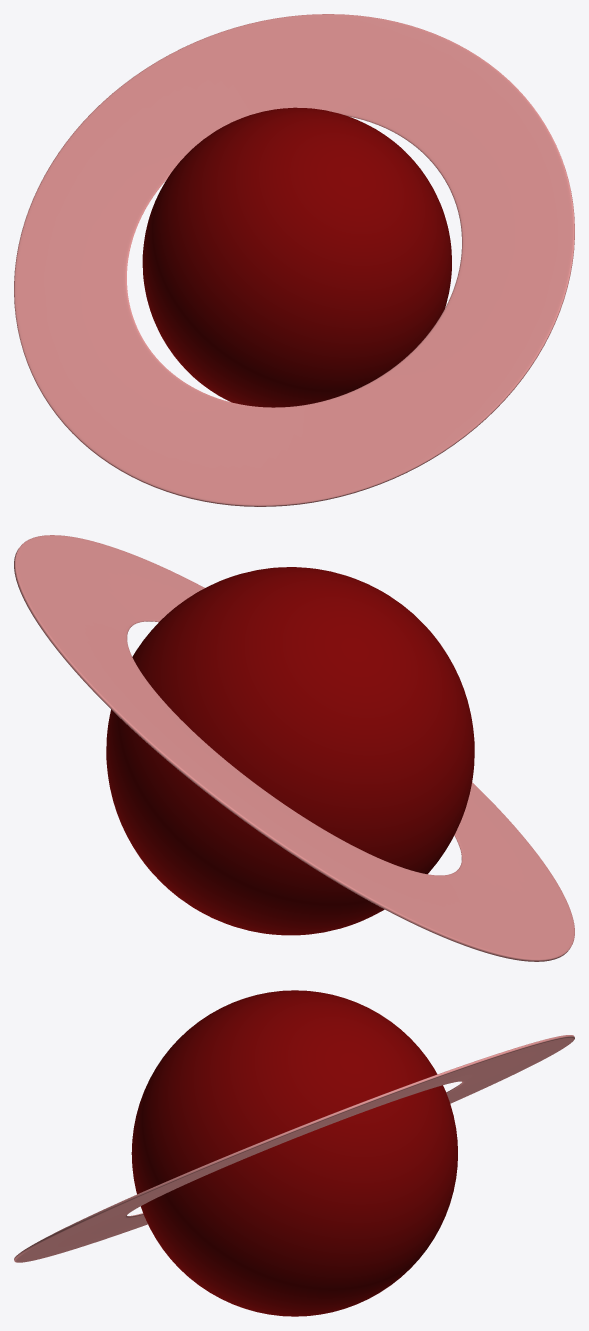
Rendered from saturn.glb.
The picture shows the model from 3 angles, top to bottom: view 1: azimuth 30°, elevation 25°; view 2: azimuth 150°, elevation 25°; view 3: azimuth 270°, elevation 25°; orthographic projection. The views are drawn at different scales.
Visible parts, largest first — view 1: Ring, _switchable; view 2: _switchable, Ring; view 3: _switchable, Ring.
Boxes of the visible parts, left/top/right/bottom form: Ring: left=14, top=14, right=574, bottom=506; _switchable: left=142, top=107, right=451, bottom=407; _switchable: left=106, top=567, right=474, bottom=935; Ring: left=14, top=535, right=574, bottom=961; _switchable: left=131, top=990, right=457, bottom=1316; Ring: left=14, top=1035, right=574, bottom=1262.
Bounding box in the file's own units: 0.2841 × 0.1838 × 0.2944.
